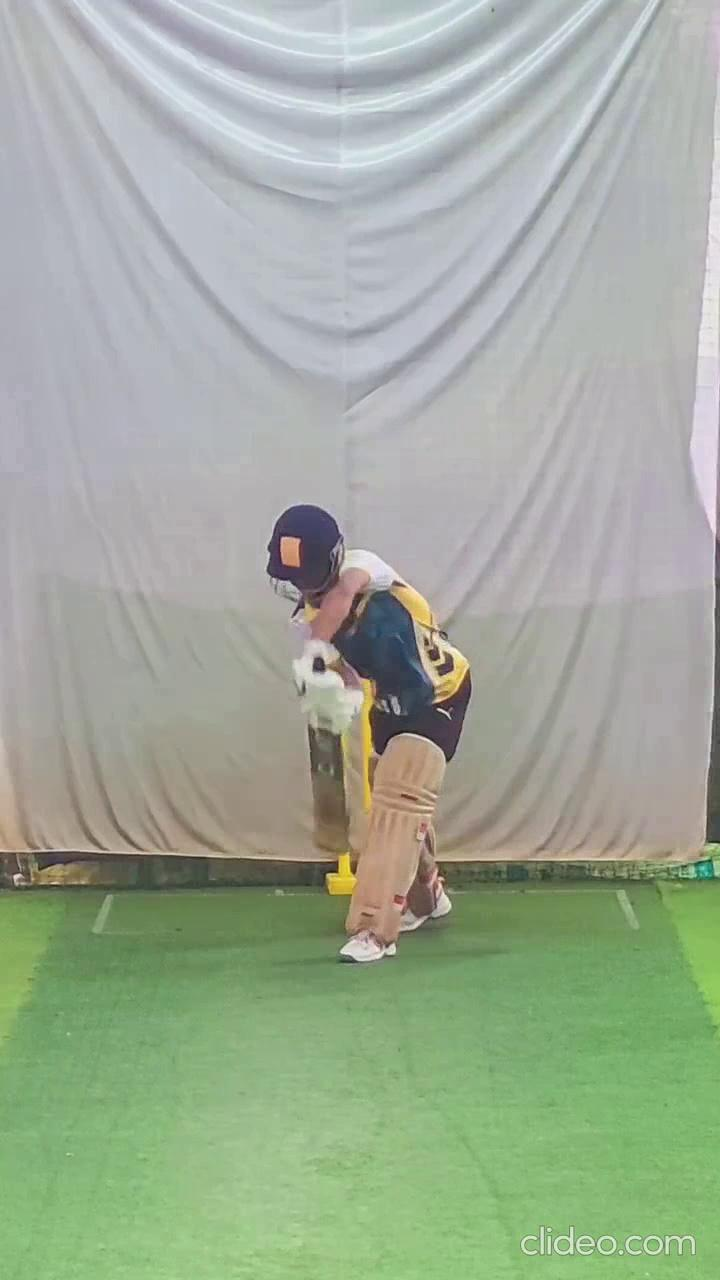bat: (306, 721, 351, 858)
